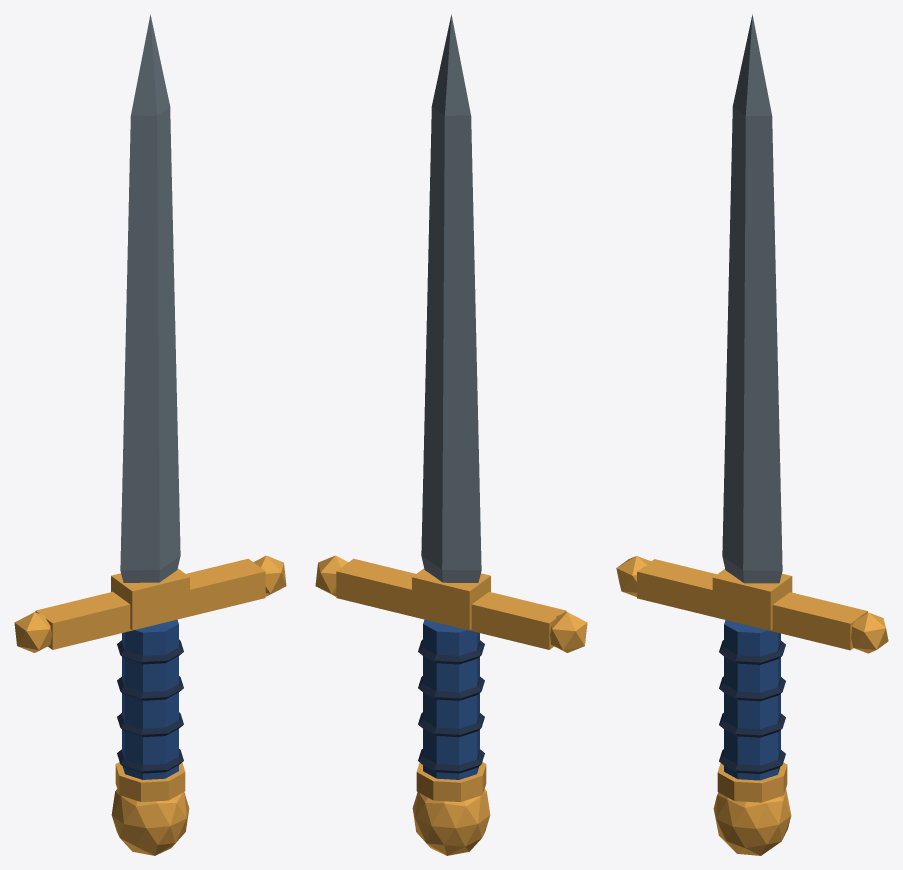
Rendered from sworddemo.glb.
3 renders of one model, left to right at view 1: azimuth 30°, elevation 25°; view 2: azimuth 150°, elevation 25°; view 3: azimuth 330°, elevation 25°, orthographic.
Visible parts, largest first — view 1: Iron Blade, Gold Crossguard, Blue Leather Grip, Gold Pommel, Guard Center, Gold Pommel Collar, Guard Jewel, Guard Jewel.001, Leather Wrap Band.003, Leather Wrap Band.001, Leather Wrap Band.002, Leather Wrap Band; view 2: Iron Blade, Gold Crossguard, Blue Leather Grip, Gold Pommel, Guard Center, Gold Pommel Collar, Guard Jewel, Guard Jewel.001, Leather Wrap Band.003, Leather Wrap Band.001, Leather Wrap Band.002, Leather Wrap Band; view 3: Iron Blade, Gold Crossguard, Blue Leather Grip, Gold Pommel, Guard Center, Gold Pommel Collar, Guard Jewel.001, Guard Jewel, Leather Wrap Band.003, Leather Wrap Band, Leather Wrap Band.002, Leather Wrap Band.001.
Boxes of the visible parts, x1=… form: Iron Blade: x1=120, y1=14, x2=180, y2=582; Gold Crossguard: x1=35, y1=558, x2=265, y2=649; Blue Leather Grip: x1=122, y1=619, x2=178, y2=779; Gold Pommel: x1=111, y1=789, x2=189, y2=855; Guard Center: x1=111, y1=568, x2=189, y2=629; Gold Pommel Collar: x1=115, y1=762, x2=185, y2=801; Guard Jewel: x1=14, y1=612, x2=51, y2=652; Guard Jewel.001: x1=253, y1=555, x2=286, y2=596; Leather Wrap Band.003: x1=117, y1=639, x2=183, y2=664; Leather Wrap Band.001: x1=117, y1=712, x2=183, y2=737; Leather Wrap Band.002: x1=117, y1=676, x2=183, y2=700; Leather Wrap Band: x1=117, y1=749, x2=183, y2=773; Iron Blade: x1=421, y1=14, x2=481, y2=582; Gold Crossguard: x1=336, y1=558, x2=566, y2=649; Blue Leather Grip: x1=423, y1=619, x2=479, y2=779; Gold Pommel: x1=412, y1=789, x2=490, y2=855; Guard Center: x1=412, y1=568, x2=490, y2=629; Gold Pommel Collar: x1=416, y1=762, x2=486, y2=801; Guard Jewel: x1=550, y1=612, x2=587, y2=652; Guard Jewel.001: x1=315, y1=555, x2=348, y2=596; Leather Wrap Band.003: x1=418, y1=639, x2=484, y2=664; Leather Wrap Band.001: x1=418, y1=712, x2=484, y2=737; Leather Wrap Band.002: x1=418, y1=676, x2=484, y2=700; Leather Wrap Band: x1=418, y1=749, x2=484, y2=773; Iron Blade: x1=722, y1=14, x2=782, y2=583; Gold Crossguard: x1=637, y1=559, x2=867, y2=650; Blue Leather Grip: x1=724, y1=620, x2=780, y2=780; Gold Pommel: x1=713, y1=789, x2=791, y2=855; Guard Center: x1=712, y1=569, x2=792, y2=630; Gold Pommel Collar: x1=717, y1=762, x2=787, y2=802; Guard Jewel.001: x1=851, y1=612, x2=888, y2=653; Guard Jewel: x1=616, y1=556, x2=650, y2=596; Leather Wrap Band.003: x1=719, y1=640, x2=785, y2=664; Leather Wrap Band: x1=719, y1=749, x2=785, y2=773; Leather Wrap Band.002: x1=719, y1=676, x2=785, y2=701; Leather Wrap Band.001: x1=719, y1=713, x2=785, y2=737.
Size of the model in its own units: 2.3 by 6.93 by 0.594.
